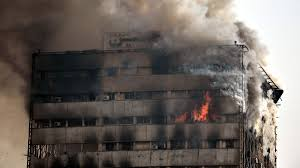smoke: (30, 1, 248, 49), (1, 1, 28, 166)
